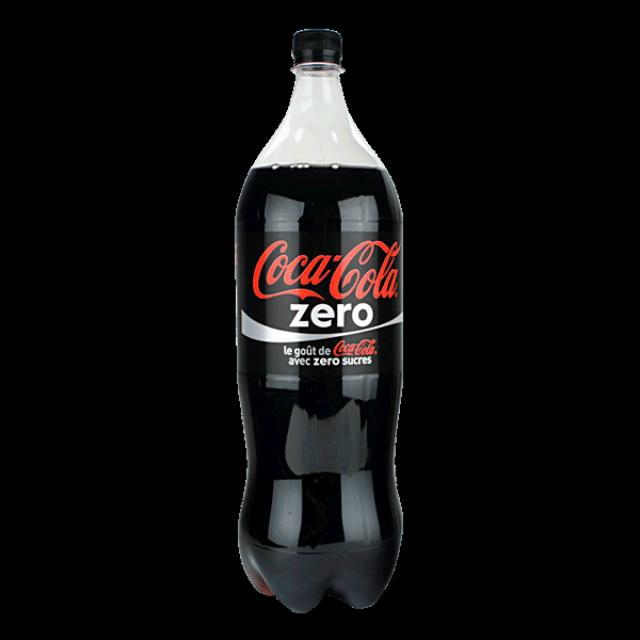coca cola: (243, 235, 406, 305), (333, 337, 376, 358)
